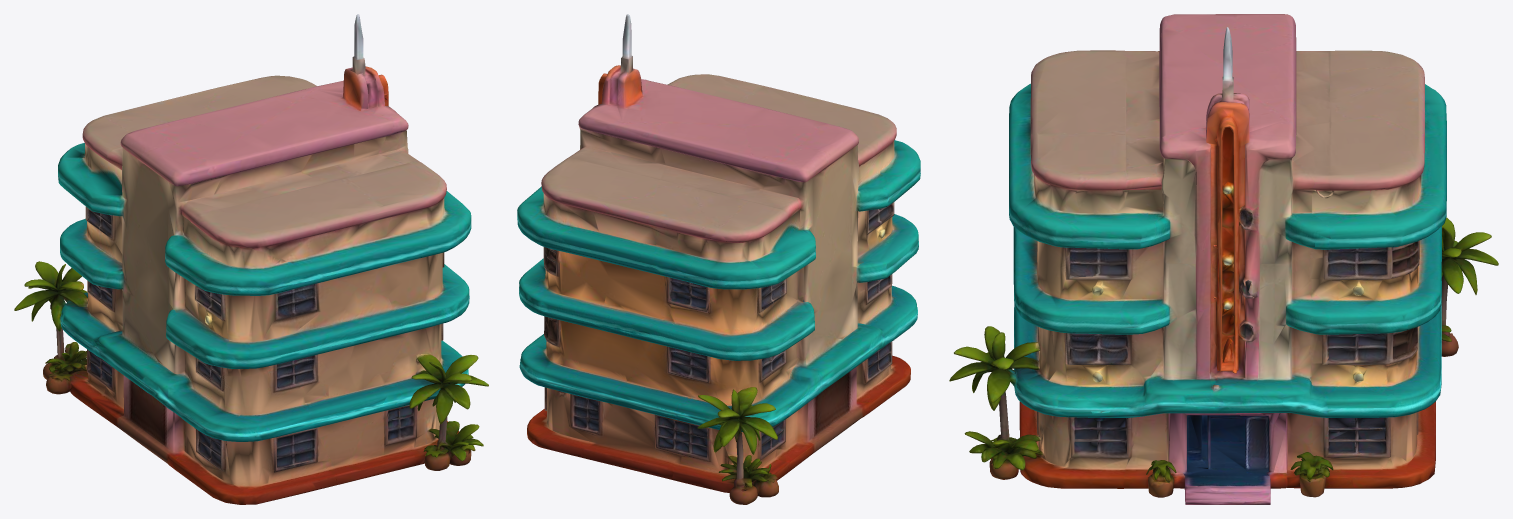
The model's file is deco-hotel-tripo-diet.glb.
3 views of the same model, side by side, from view 1: azimuth 30°, elevation 25°; view 2: azimuth 150°, elevation 25°; view 3: azimuth 270°, elevation 25° (orthographic). The views are drawn at different scales.
Visible parts, largest first — view 1: tripo_node_d11b6937-6c52-440e-95f8-e58928d0e546; view 2: tripo_node_d11b6937-6c52-440e-95f8-e58928d0e546; view 3: tripo_node_d11b6937-6c52-440e-95f8-e58928d0e546.
Boxes of the visible parts, x1,y1,x2,y2 form: tripo_node_d11b6937-6c52-440e-95f8-e58928d0e546: [14, 14, 488, 504]; tripo_node_d11b6937-6c52-440e-95f8-e58928d0e546: [517, 14, 920, 504]; tripo_node_d11b6937-6c52-440e-95f8-e58928d0e546: [949, 14, 1498, 504].
Size of the model in its own units: 0.7497 by 0.8961 by 0.9997.
Materials: 1 (1 with a texture image).
